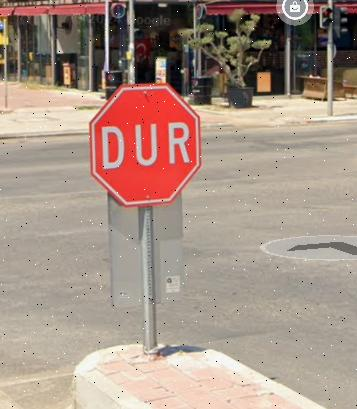stop: (88, 84, 202, 209)
